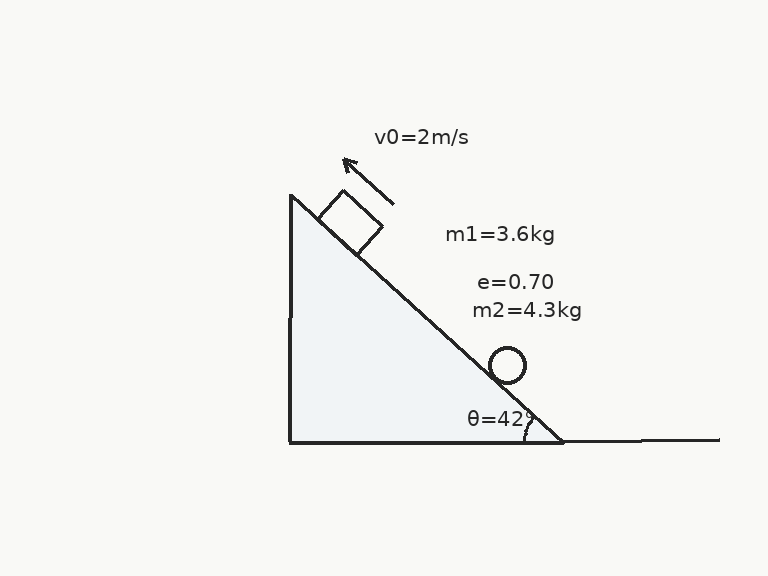ball: (486, 344, 528, 386)
block: (315, 188, 385, 257)
ramp: (288, 193, 566, 444)
